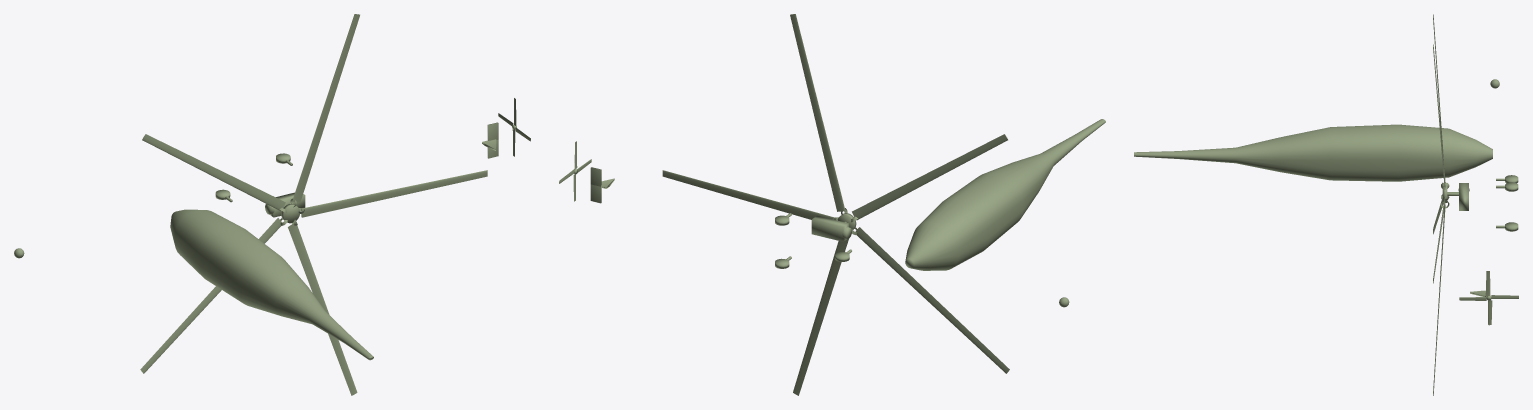
File: uh169d_normal.glb
3 views of the same model, side by side, from view 1: azimuth 30°, elevation 25°; view 2: azimuth 150°, elevation 25°; view 3: azimuth 270°, elevation 25° (orthographic). The views are drawn at different scales.
Size of the model in its own units: 15.68 by 11.47 by 11.36.
